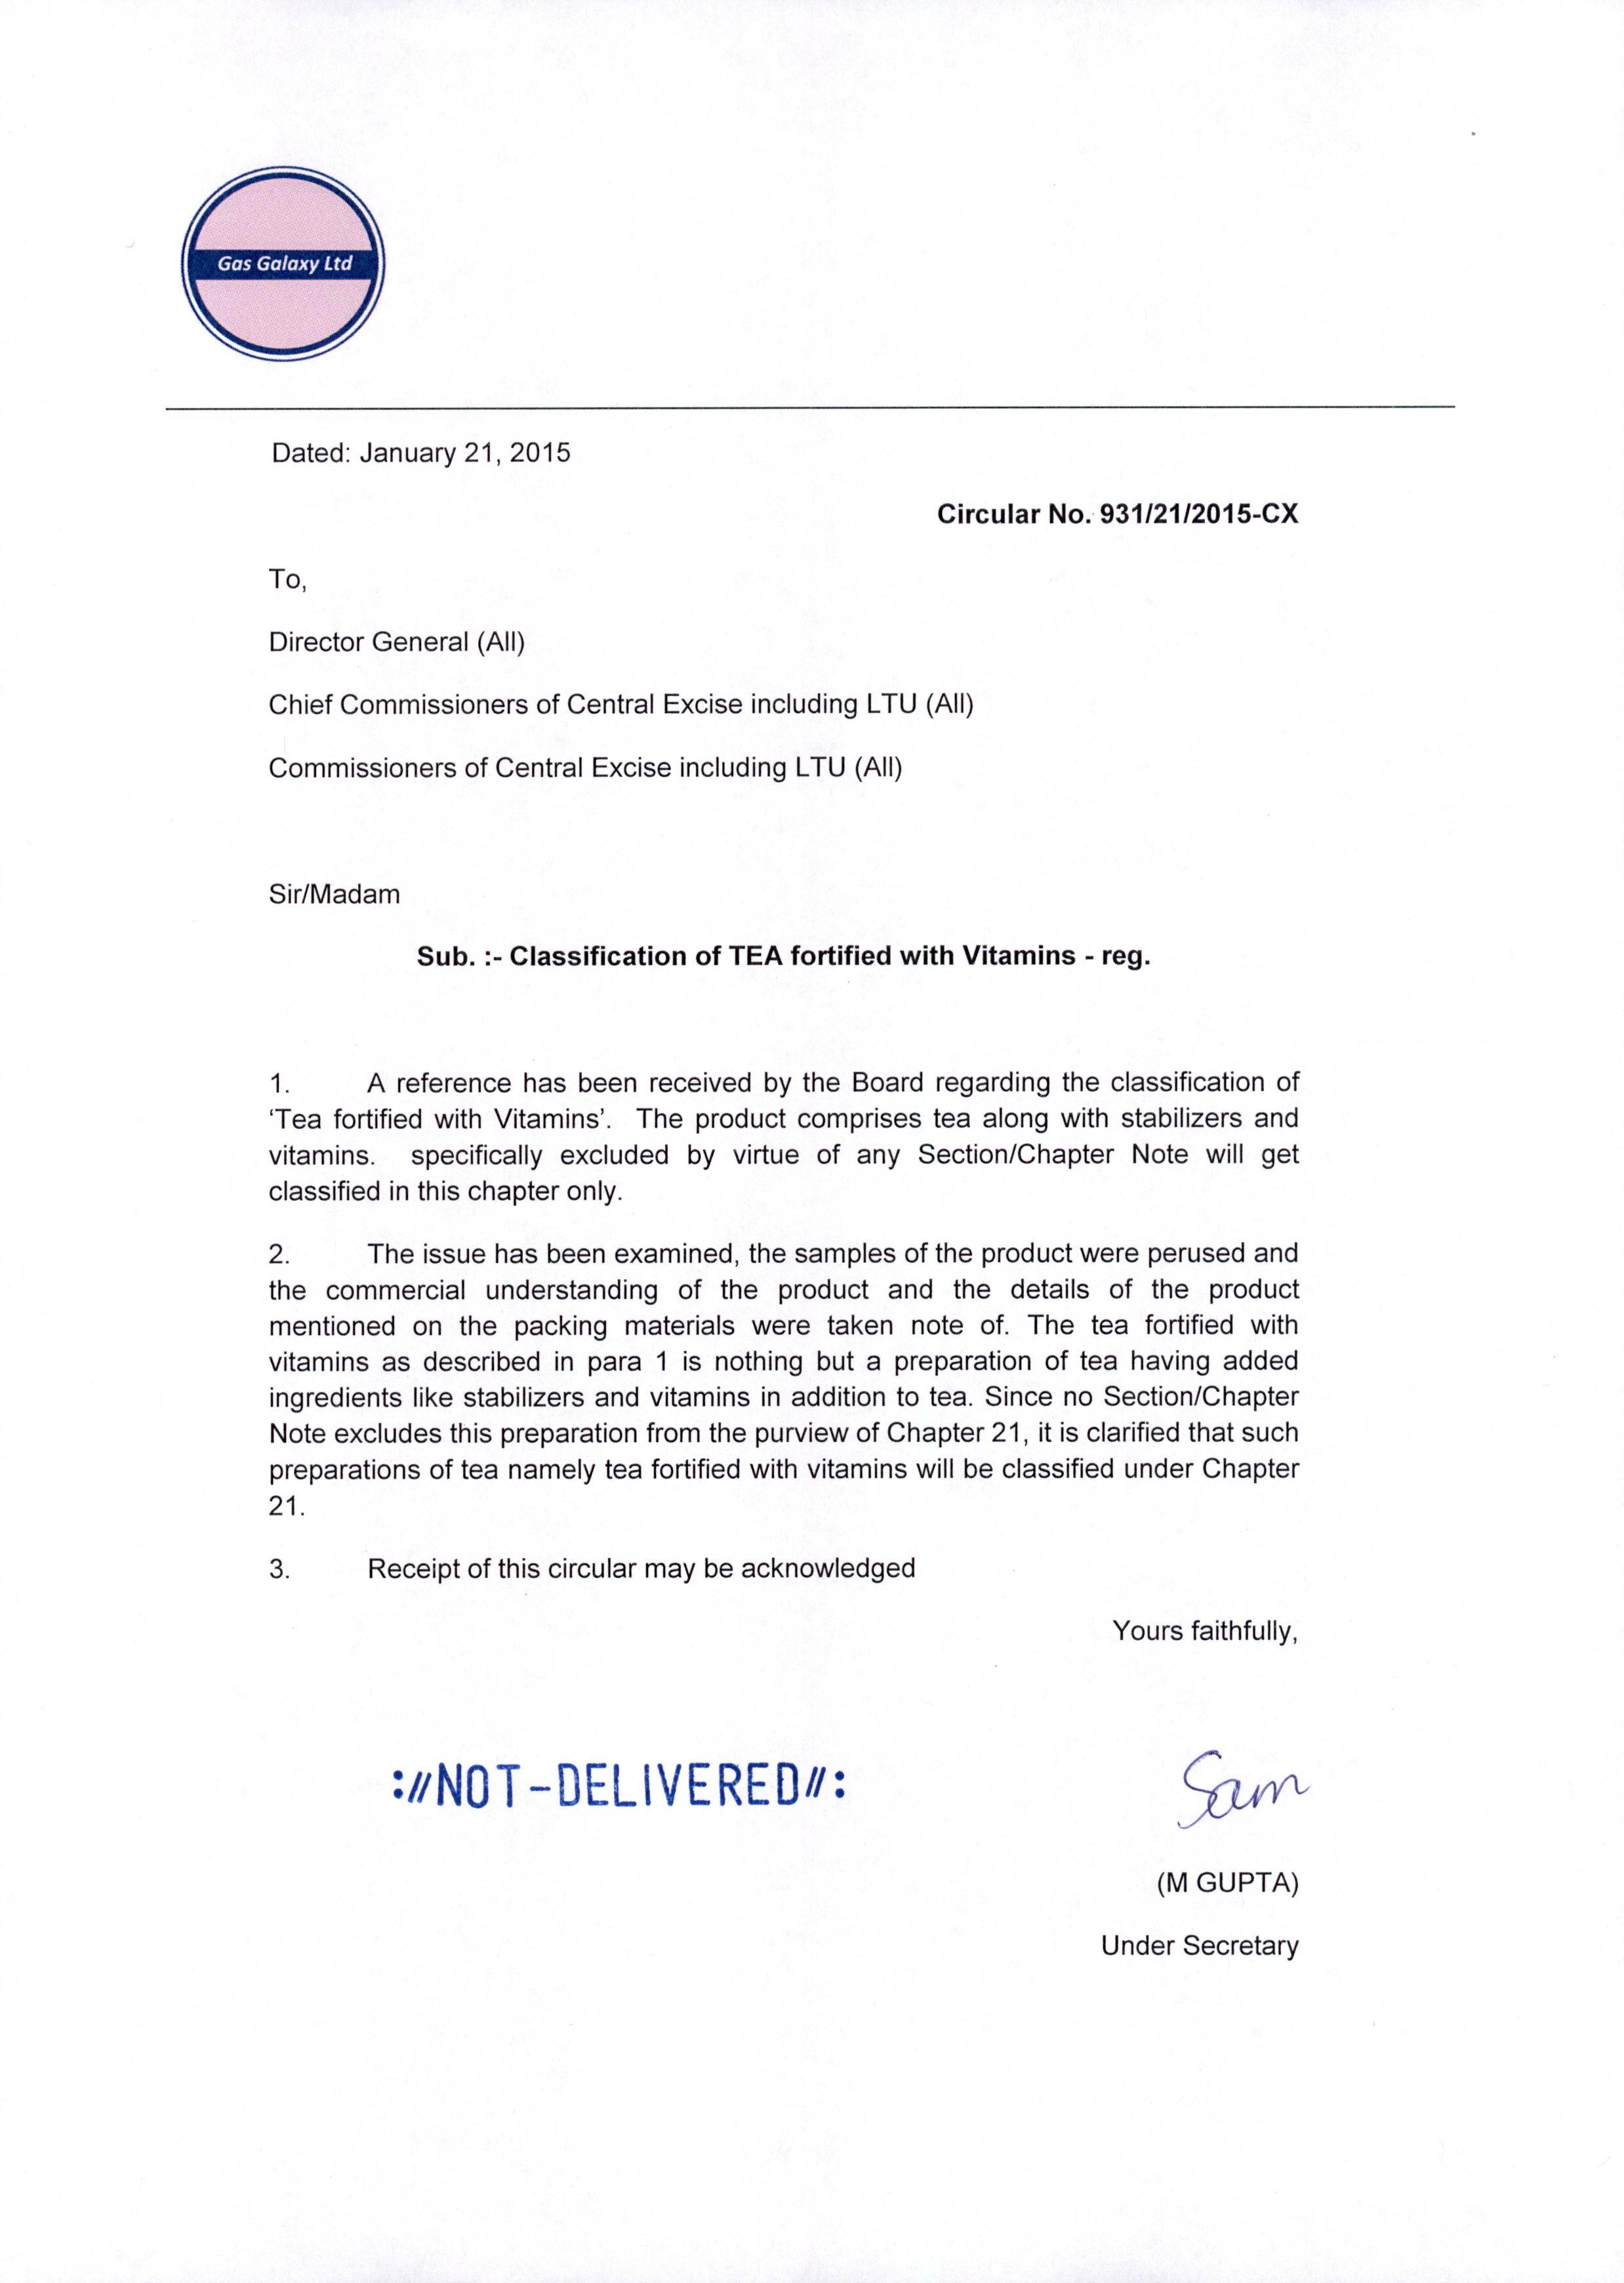Signature: (1164, 1740, 1311, 1837)
